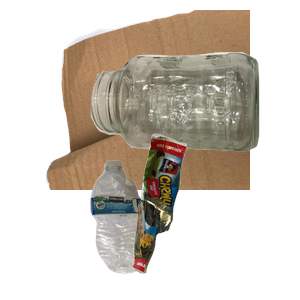cardboard: (43, 10, 283, 190)
glass: (88, 50, 300, 194)
plastic: (88, 158, 229, 300)
trash: (130, 131, 300, 300)
